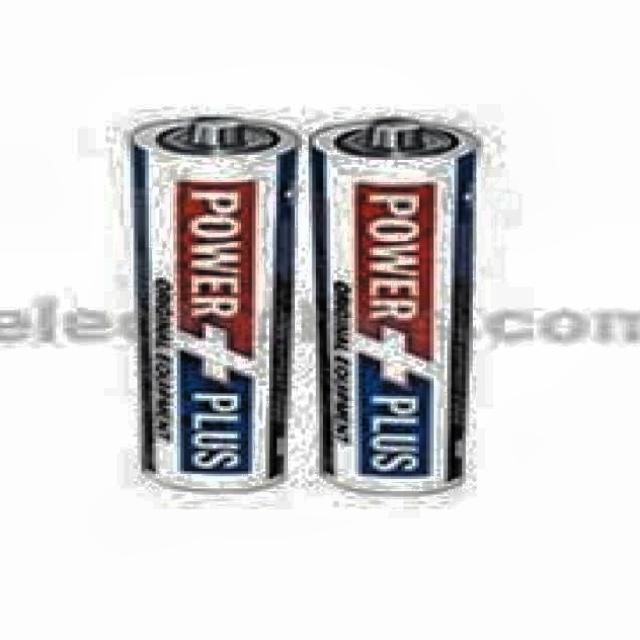battery: (312, 117, 476, 491), (134, 117, 295, 493)
